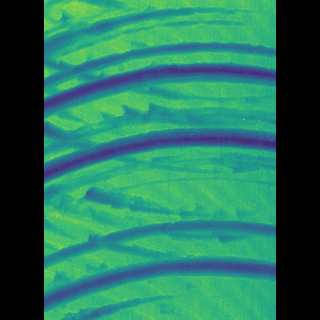Loch: (75, 0, 246, 187), (75, 248, 243, 315), (75, 215, 244, 274), (100, 181, 185, 221), (85, 289, 170, 320)
